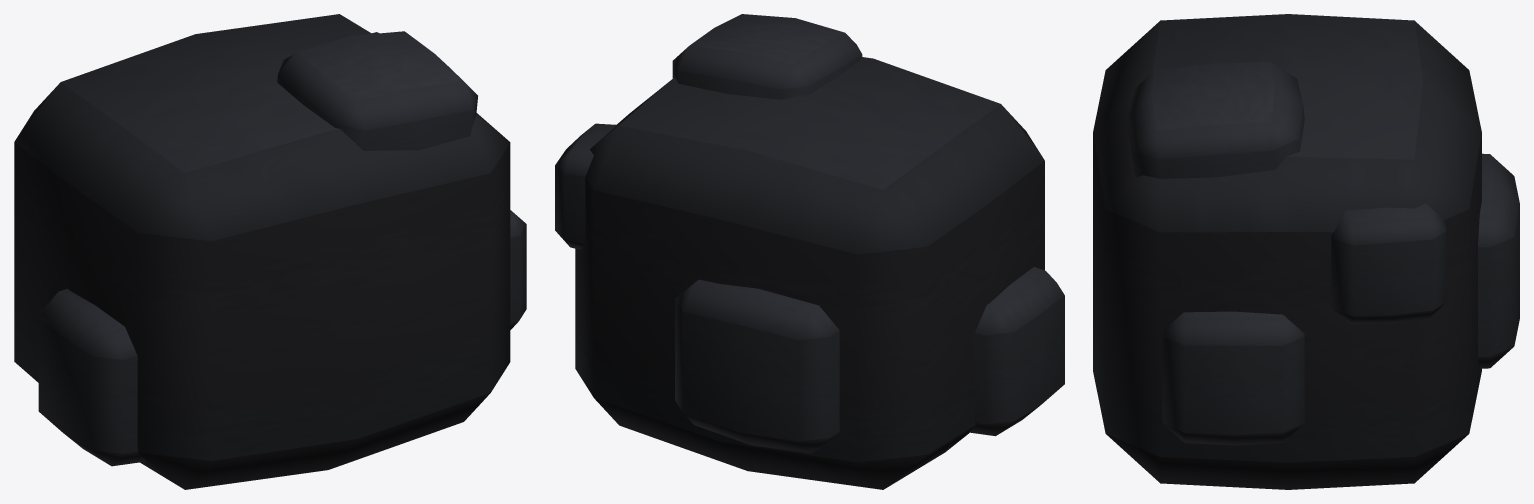
File: hair_afro_messy.fbx
3 views of the same model, side by side, from view 1: azimuth 30°, elevation 25°; view 2: azimuth 150°, elevation 25°; view 3: azimuth 270°, elevation 25° (orthographic). The views are drawn at different scales.
Visible parts, largest first — view 1: hair_afro_messy; view 2: hair_afro_messy; view 3: hair_afro_messy.
Part boxes in pixels (x1,y1,x2,y2): hair_afro_messy: [14, 14, 526, 489]; hair_afro_messy: [555, 14, 1064, 489]; hair_afro_messy: [1093, 14, 1519, 489].
Size of the model in its own units: 94.24 by 77.07 by 77.81.
